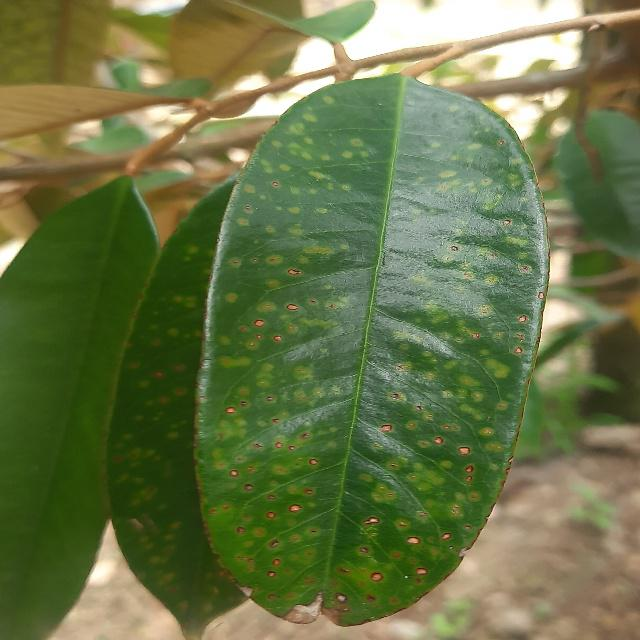Leaf Spot: (99, 65, 556, 639)
